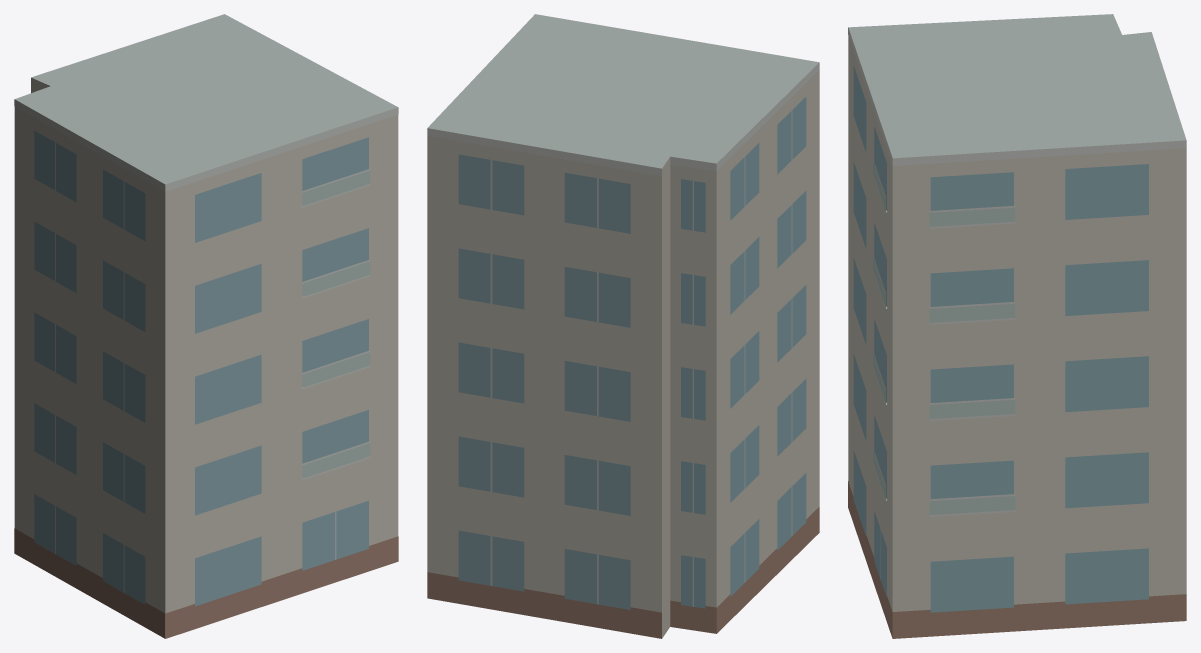
File: survey-upis-32464204.glb
3 views of the same model, side by side, from view 1: azimuth 30°, elevation 25°; view 2: azimuth 150°, elevation 25°; view 3: azimuth 270°, elevation 25° (orthographic). The views are drawn at different scales.
Parts seen in each view (by area): view 1: survey-upis-32464204.tmp; view 2: survey-upis-32464204.tmp; view 3: survey-upis-32464204.tmp.
Boxes of the visible parts, x1,y1,x2,y2 form: survey-upis-32464204.tmp: (14, 14, 398, 638); survey-upis-32464204.tmp: (427, 14, 819, 638); survey-upis-32464204.tmp: (848, 14, 1186, 638).
Size of the model in its own units: 9.8 by 15.2 by 9.71.
